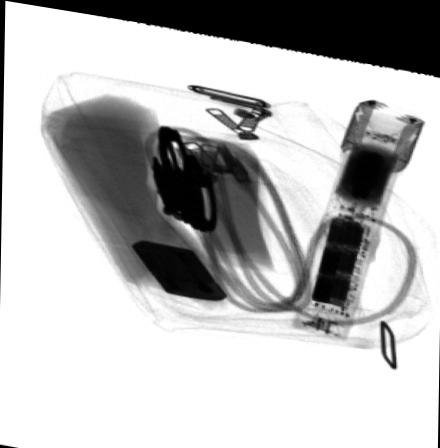Baton: (287, 85, 422, 327)
HandCuffs: (148, 117, 220, 227)
Lighter: (132, 233, 225, 293)
